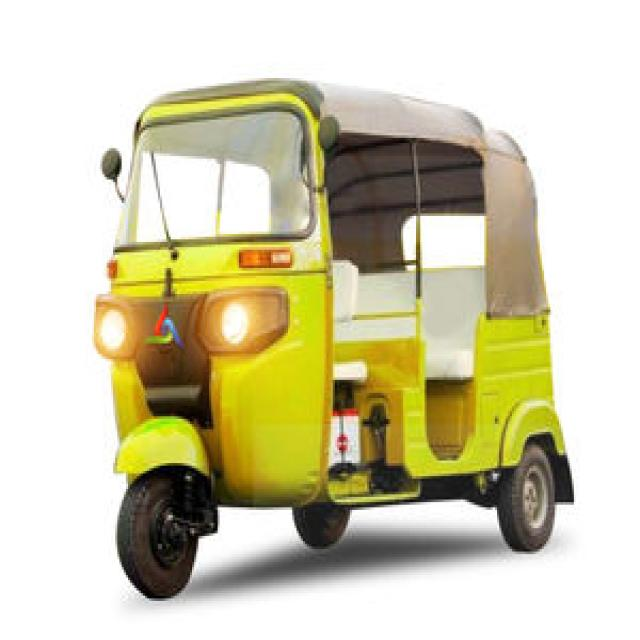autorickshaw: (92, 78, 576, 604)
